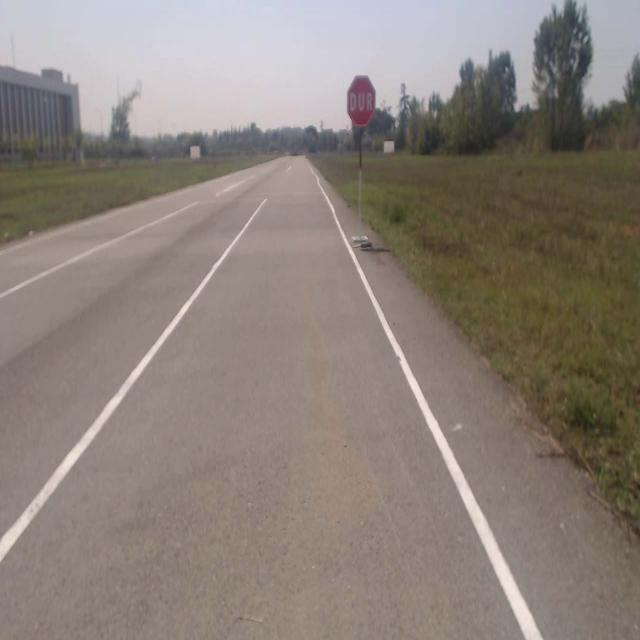dur: (347, 75, 375, 129)
